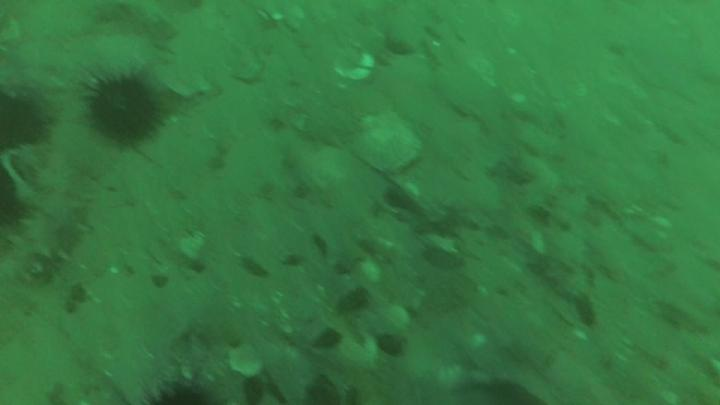echinus: (88, 80, 158, 143), (1, 94, 45, 150)
holothurian: (4, 168, 87, 281), (545, 187, 594, 299)
scallop: (349, 118, 422, 175)
